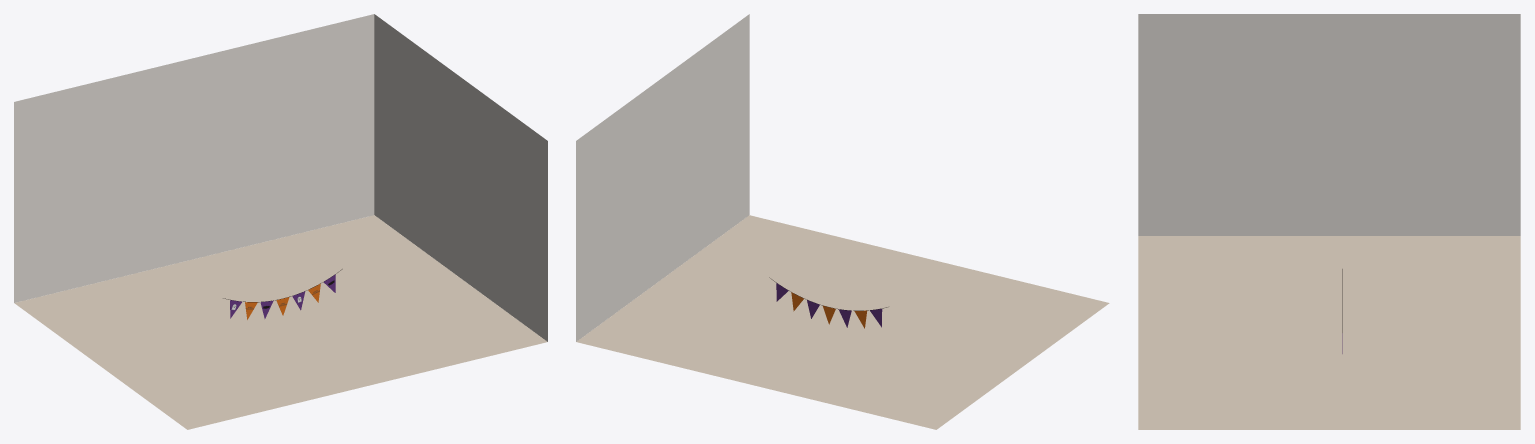
The model's file is escenografia.glb.
3 views of the same model, side by side, from view 1: azimuth 30°, elevation 25°; view 2: azimuth 150°, elevation 25°; view 3: azimuth 270°, elevation 25° (orthographic). The views are drawn at different scales.
Visible parts, largest first — view 1: sala, decoracion; view 2: sala, decoracion; view 3: sala.
Boxes of the visible parts, x1=… form: sala: x1=14, y1=14, x2=547, y2=429; decoracion: x1=223, y1=269, x2=342, y2=319; sala: x1=576, y1=14, x2=1109, y2=429; decoracion: x1=769, y1=277, x2=887, y2=328; sala: x1=1138, y1=14, x2=1520, y2=429.
Size of the model in its own units: 6 by 3.2 by 5.
15 materials, 7 textured.
